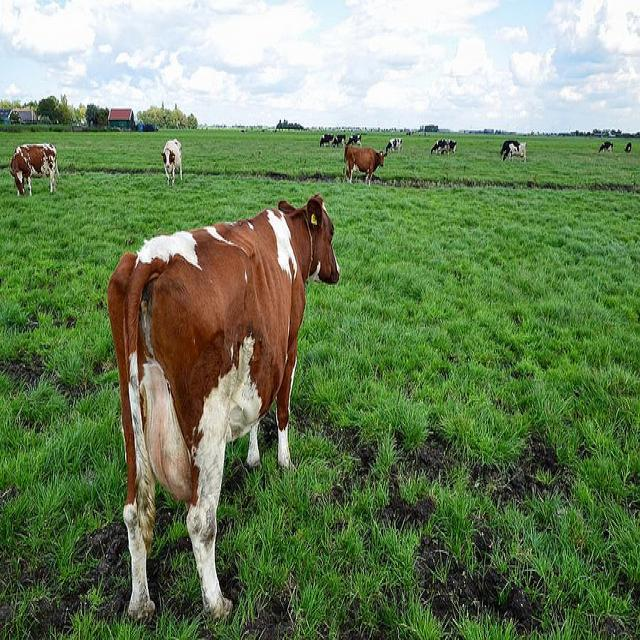cow: (107, 193, 339, 616), (9, 141, 58, 195), (342, 143, 386, 185), (159, 137, 181, 185), (498, 138, 526, 160), (429, 136, 449, 153), (383, 137, 401, 152), (317, 132, 334, 145), (344, 132, 361, 144), (331, 132, 345, 145), (597, 140, 612, 152), (448, 138, 456, 153), (623, 139, 630, 150)
